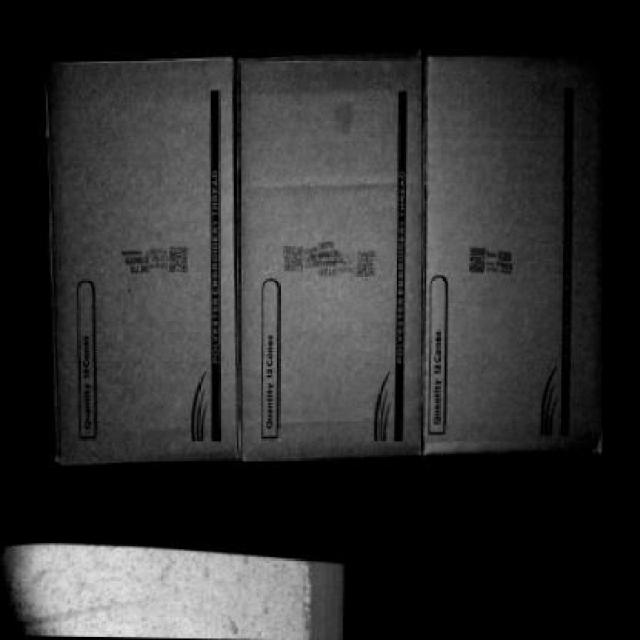cardboxes: (36, 63, 244, 457), (235, 59, 431, 458), (428, 57, 606, 451)
